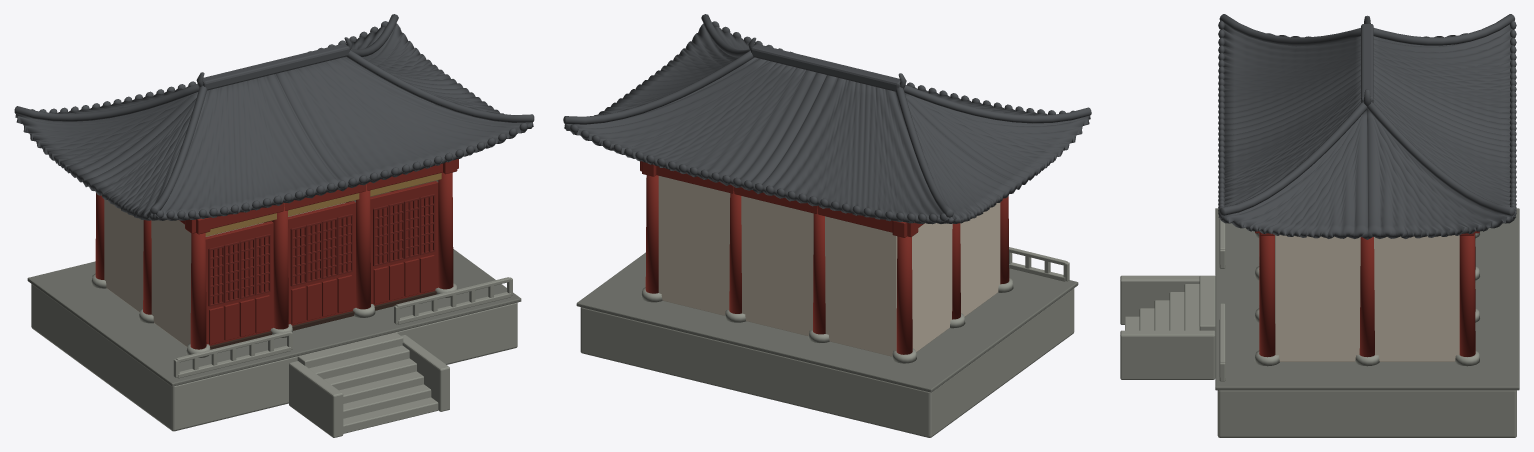
Rendered from temple.glb.
3 views of the same model, side by side, from view 1: azimuth 30°, elevation 25°; view 2: azimuth 150°, elevation 25°; view 3: azimuth 270°, elevation 25° (orthographic). The views are drawn at different scales.
Parts seen in each view (by area): view 1: temple; view 2: temple; view 3: temple.
Boxes of the visible parts, x1,y1,x2,y2 form: temple: (14, 14, 534, 437); temple: (563, 14, 1091, 437); temple: (1120, 14, 1519, 437).
Bounding box in the file's own units: 9.34 × 6.58 × 8.
